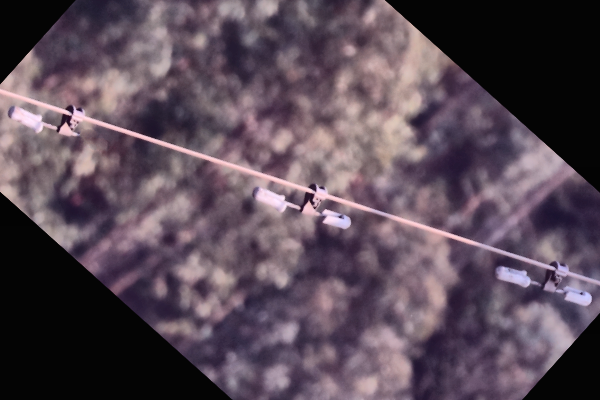damper: (490, 257, 594, 309), (251, 180, 354, 230)
damper_defect: (6, 100, 91, 142)
